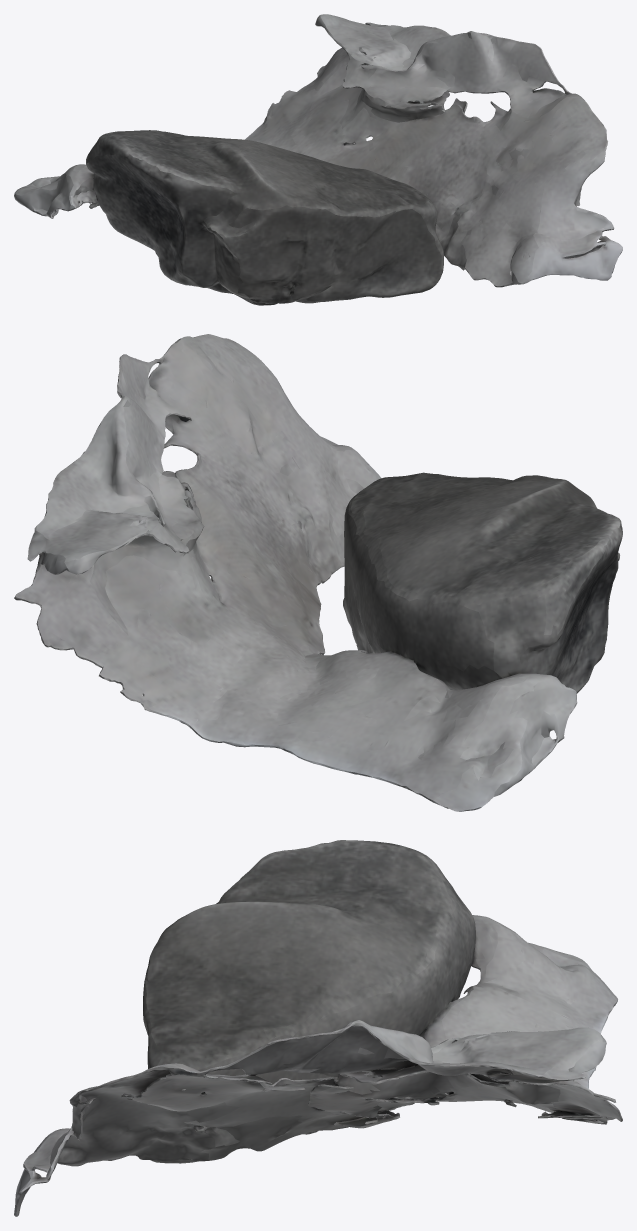
3 renders of one model, top to bottom at view 1: azimuth 30°, elevation 25°; view 2: azimuth 150°, elevation 25°; view 3: azimuth 270°, elevation 25°, orthographic. The views are drawn at different scales.
Visible parts, largest first — view 1: world; view 2: world; view 3: world.
Part boxes in pixels (x1=…): world: x1=14, y1=14, x2=622, y2=305; world: x1=14, y1=334, x2=622, y2=811; world: x1=14, y1=840, x2=622, y2=1216.
Size of the model in its own units: 3.5 by 1.42 by 3.5.
Materials: 1 (1 with a texture image).
